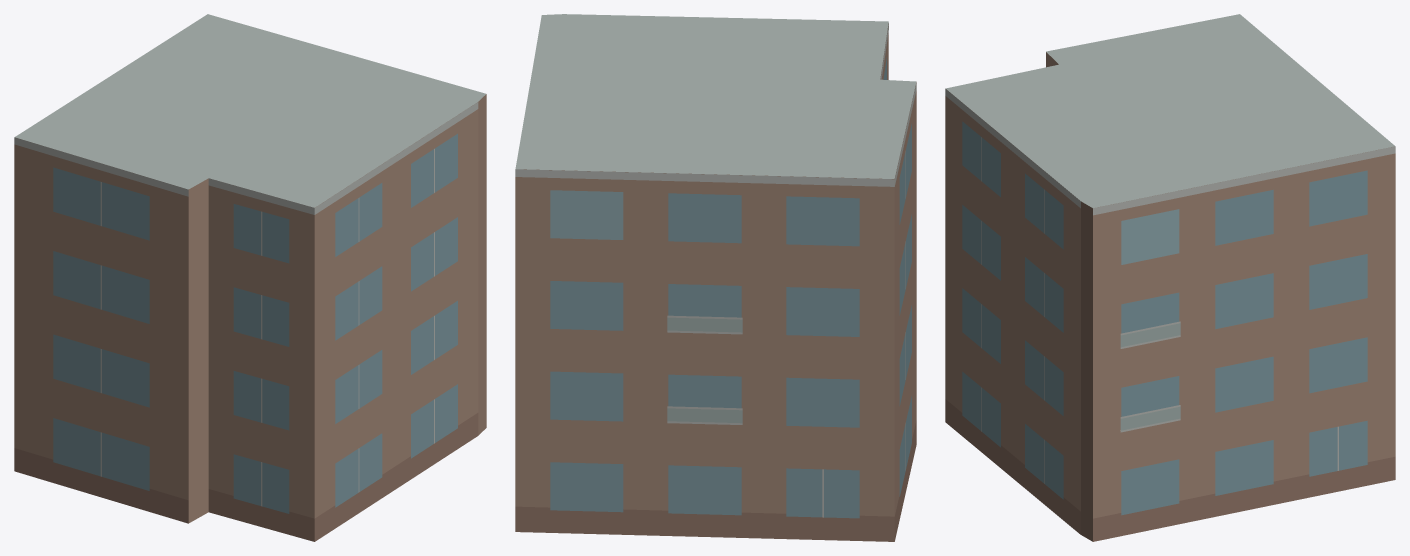
Rendered from survey-upis-32929100.glb.
3 views of the same model, side by side, from view 1: azimuth 30°, elevation 25°; view 2: azimuth 150°, elevation 25°; view 3: azimuth 270°, elevation 25° (orthographic). The views are drawn at different scales.
Parts seen in each view (by area): view 1: survey-upis-32929100.tmp; view 2: survey-upis-32929100.tmp; view 3: survey-upis-32929100.tmp.
Boxes of the visible parts, left/top/right/bottom form: survey-upis-32929100.tmp: left=14, top=14, right=486, bottom=541; survey-upis-32929100.tmp: left=515, top=14, right=916, bottom=541; survey-upis-32929100.tmp: left=945, top=14, right=1395, bottom=541.
Bounding box in the file's own units: 14.12 × 11.3 × 13.83.
